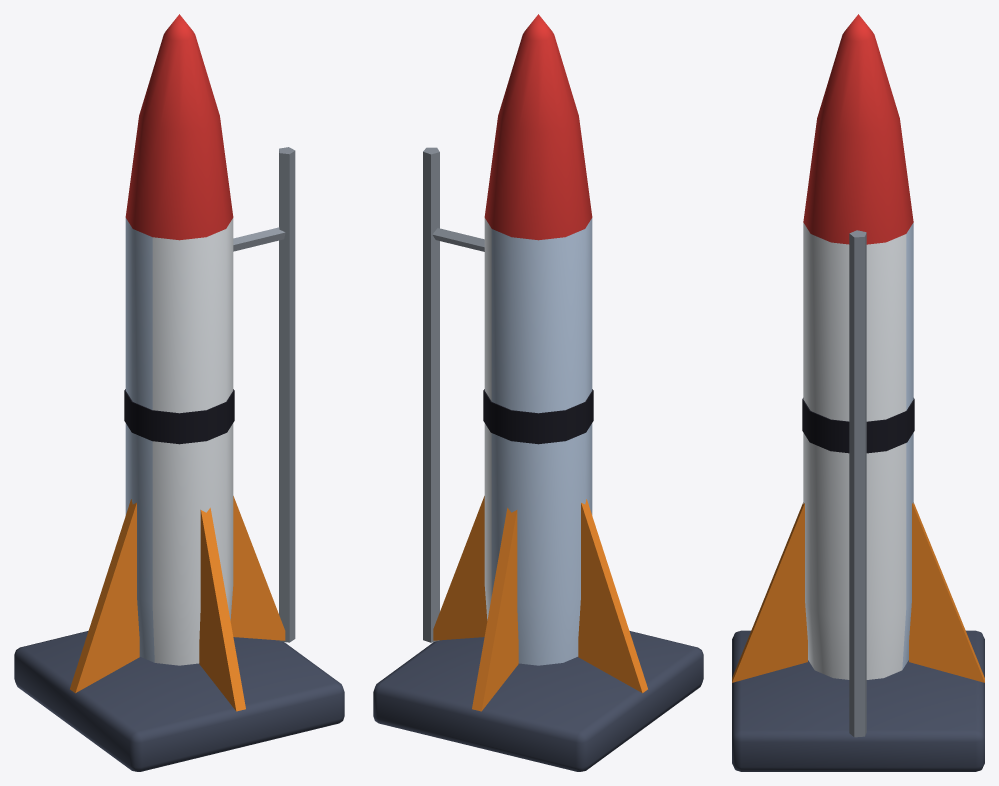
The model's file is MiniRocket.fbx.
The picture shows the model from 3 angles, left to right: view 1: azimuth 30°, elevation 25°; view 2: azimuth 150°, elevation 25°; view 3: azimuth 270°, elevation 25°; orthographic projection. The views are drawn at different scales.
Visible parts, largest first — view 1: MiniRocket; view 2: MiniRocket; view 3: MiniRocket.
Part boxes in pixels (<box>): MiniRocket: <box>14,14,344,771</box>; MiniRocket: <box>373,14,703,771</box>; MiniRocket: <box>732,14,984,771</box>.
Bounding box in the file's own units: 1.14 × 3.4 × 1.1.
1 material, 1 textured.
